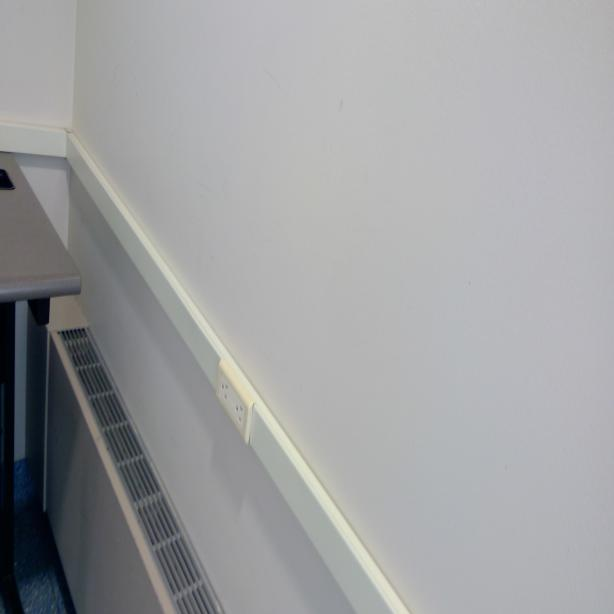typeb: (234, 397, 245, 425), (219, 378, 230, 402)
